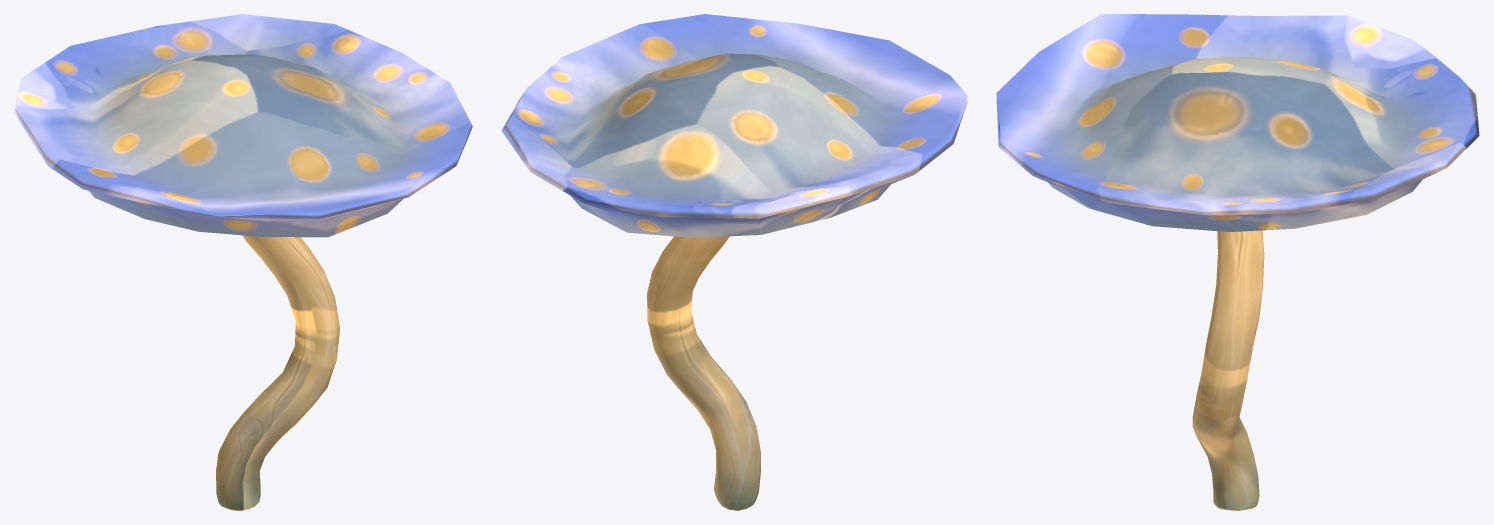
File: SM_Stylized_Big_Mushroom_03.fbx
3 views of the same model, side by side, from view 1: azimuth 30°, elevation 25°; view 2: azimuth 150°, elevation 25°; view 3: azimuth 270°, elevation 25° (orthographic). The views are drawn at different scales.
Visible parts, largest first — view 1: SM_Stylized_Big_Mushroom_03_LOD0; view 2: SM_Stylized_Big_Mushroom_03_LOD0; view 3: SM_Stylized_Big_Mushroom_03_LOD0.
Boxes of the visible parts, <box> form: SM_Stylized_Big_Mushroom_03_LOD0: <box>14,14,472,510</box>; SM_Stylized_Big_Mushroom_03_LOD0: <box>501,14,967,510</box>; SM_Stylized_Big_Mushroom_03_LOD0: <box>996,14,1479,510</box>.
Bounding box in the file's own units: 276 × 297 × 298.
